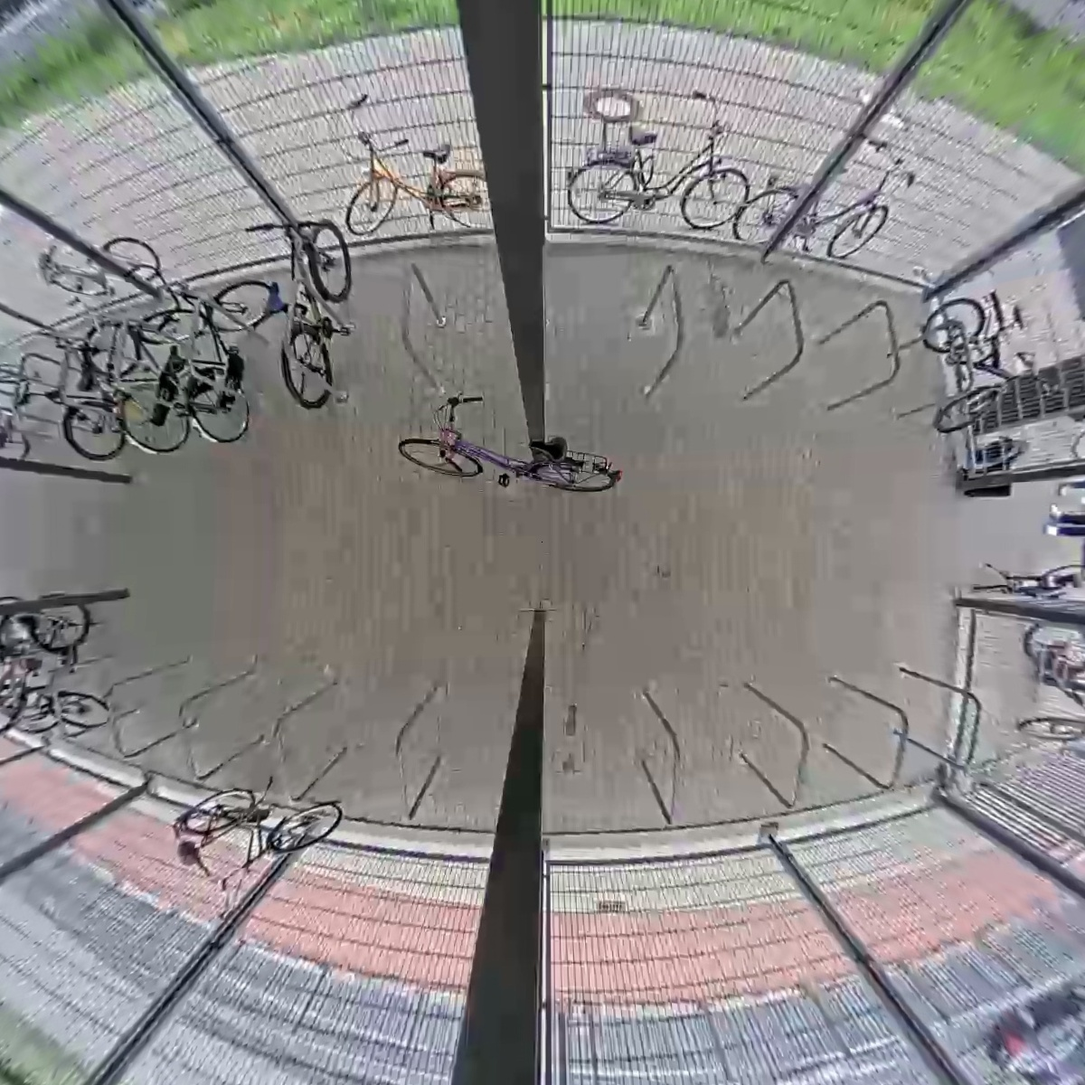bicylce: (246, 212, 339, 406), (170, 793, 359, 880), (181, 281, 278, 445), (396, 422, 618, 493), (29, 575, 112, 758), (118, 296, 206, 461), (55, 297, 131, 470), (922, 299, 1003, 432), (3, 578, 45, 762)
saddle: (528, 436, 569, 464), (264, 285, 286, 310), (164, 345, 184, 372), (175, 843, 199, 865), (76, 362, 94, 391), (17, 380, 31, 407), (1012, 305, 1024, 330)
